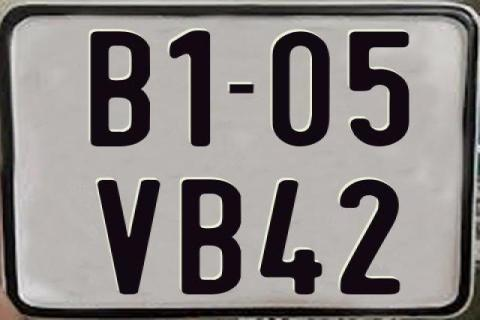0: (260, 179, 328, 299), (346, 29, 408, 150), (272, 29, 332, 148), (339, 177, 400, 293), (169, 30, 216, 148)
B: (179, 179, 244, 297), (91, 30, 152, 148)
V: (95, 180, 160, 299)
